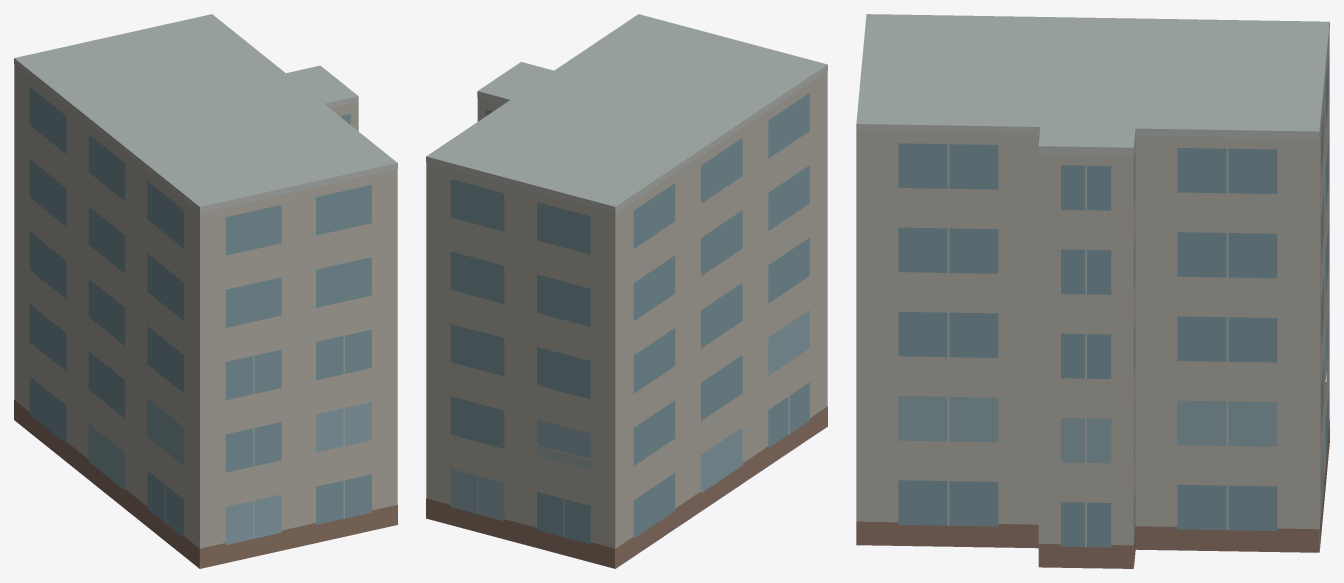
The model's file is survey-upis-32874567.glb.
3 renders of one model, left to right at view 1: azimuth 30°, elevation 25°; view 2: azimuth 150°, elevation 25°; view 3: azimuth 270°, elevation 25°, orthographic. The views are drawn at different scales.
Parts seen in each view (by area): view 1: survey-upis-32874567.tmp; view 2: survey-upis-32874567.tmp; view 3: survey-upis-32874567.tmp.
Part boxes in pixels (x1,y1,x2,y2): survey-upis-32874567.tmp: (14,14,397,568); survey-upis-32874567.tmp: (426,14,827,568); survey-upis-32874567.tmp: (856,14,1329,568).
Bounding box in the file's own units: 9.75 × 14.3 × 14.58.
